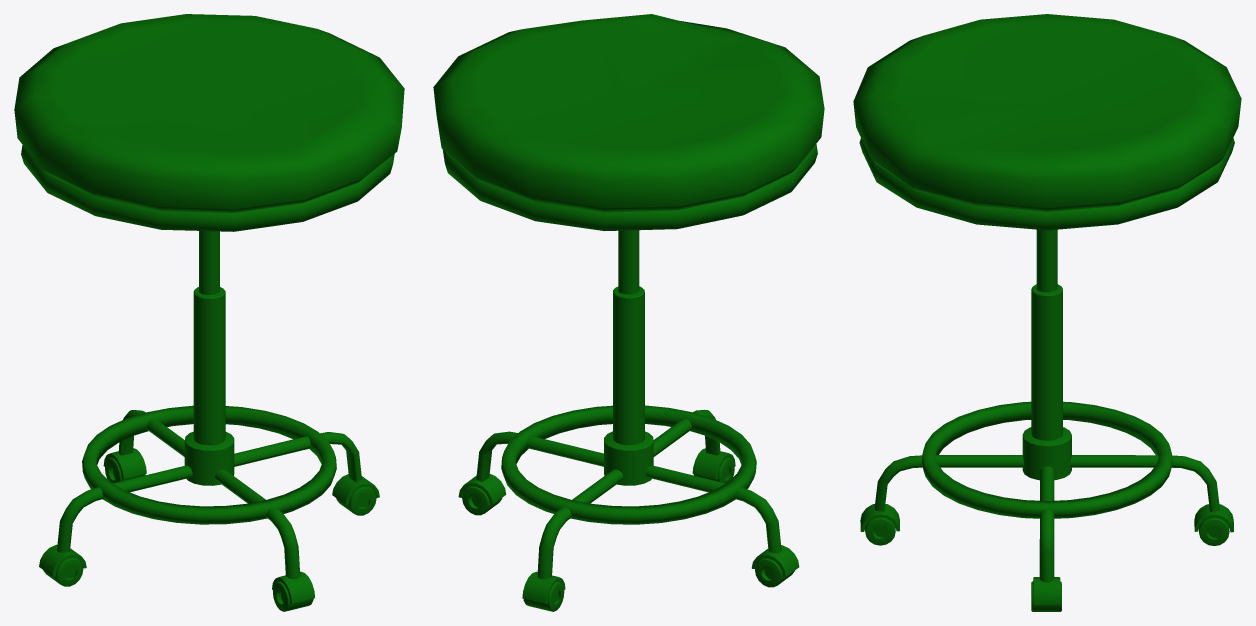
File: Stool.fbx
3 views of the same model, side by side, from view 1: azimuth 30°, elevation 25°; view 2: azimuth 150°, elevation 25°; view 3: azimuth 270°, elevation 25° (orthographic).
Visible parts, largest first — view 1: Stool; view 2: Stool; view 3: Stool.
Part boxes in pixels (box(x1,y1,x2,y2)): Stool: box(14, 14, 404, 611); Stool: box(433, 14, 824, 611); Stool: box(853, 14, 1241, 611).
Size of the model in its own units: 46.63 by 60.12 by 46.56.
